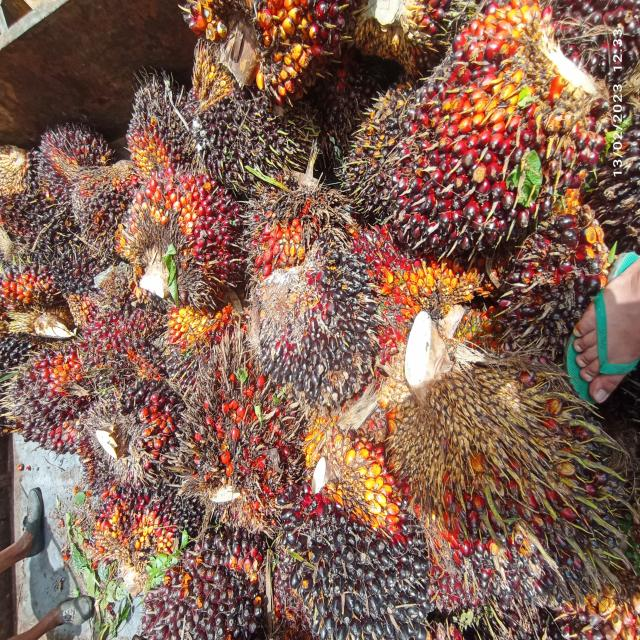fraksi 00: (266, 429, 442, 640), (236, 225, 381, 414), (316, 67, 439, 236), (189, 53, 312, 199), (92, 461, 199, 563), (119, 72, 198, 171), (68, 159, 133, 233)
fraksi 1: (2, 346, 102, 468), (134, 559, 262, 640), (30, 121, 103, 206)
fraksi 3: (374, 0, 622, 275), (112, 154, 244, 313)
fraksi 4: (181, 325, 307, 550), (250, 181, 338, 283)
